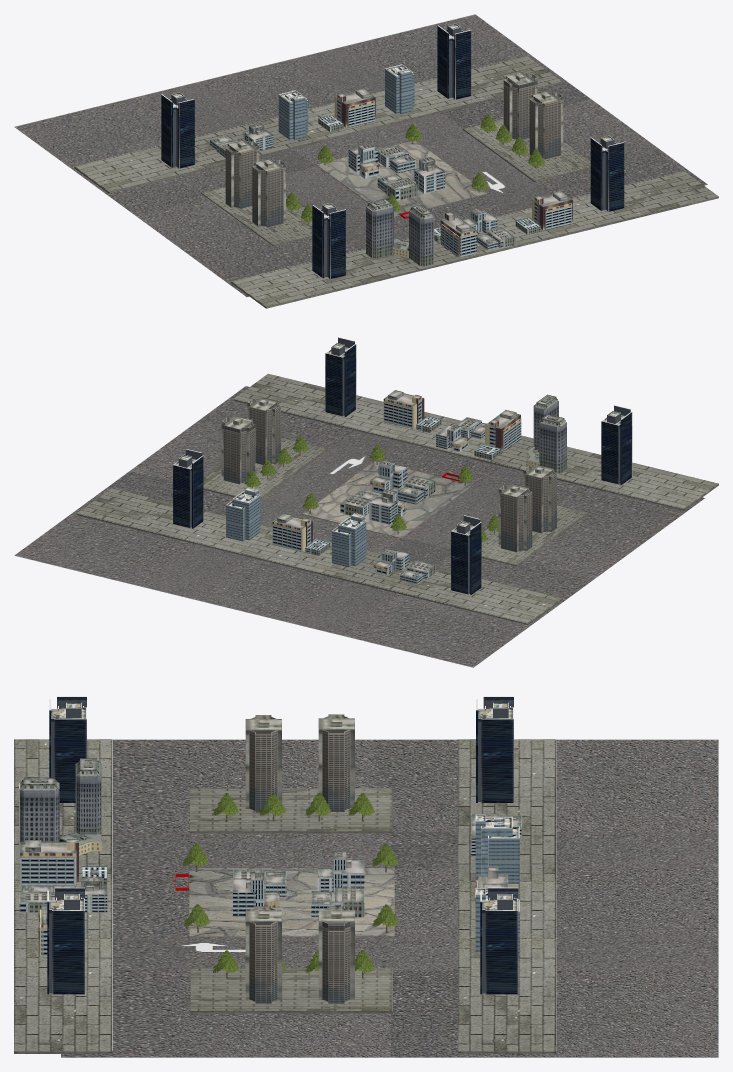
Rendered from city1.fbx.
3 renders of one model, top to bottom at view 1: azimuth 30°, elevation 25°; view 2: azimuth 150°, elevation 25°; view 3: azimuth 270°, elevation 25°, orthographic. The views are drawn at different scales.
Visible parts, largest first — view 1: pPlane37, pCube5, pCube6, lou1, pCube7, pCube3, lou11, lou8, lou12, lou9, lou4, lou3 (+10 smaller); view 2: pPlane37, pCube6, pCube5, lou1, pCube7, lou9, lou8, lou6, lou11, lou12, pCube3, lou5 (+10 smaller); view 3: pPlane37, pCube6, pCube5, lou1, pCube7, pCube4, pCube3, lou11, lou8, lou12, lou3, lou5 (+8 smaller).
Boxes of the visible parts, x1,y1,x2,y2 form: pPlane37: (14,14,707,296); pCube5: (231,171,718,308); pCube6: (74,56,561,193); lou1: (366,198,515,266); pCube7: (316,141,487,216); pCube3: (463,119,590,182); lou11: (437,23,471,99); lou8: (590,135,624,211); lou12: (161,92,194,168); lou9: (312,203,345,279); lou4: (252,158,285,227); lou3: (529,91,563,159); pPlane37: (14,386,704,667); pCube6: (77,488,562,625); pCube5: (233,373,718,510); lou1: (436,394,566,473); pCube7: (302,461,473,538); lou9: (601,405,632,484); lou8: (325,337,356,416); lou6: (498,484,532,552); lou11: (173,449,203,528); lou12: (451,515,481,594); pCube3: (203,438,327,499); lou5: (221,416,255,484); pPlane37: (61,739,718,1057); pCube6: (458,739,556,1053); pCube5: (14,739,112,1053); lou1: (19,758,107,912); pCube7: (189,868,394,936); pCube4: (190,788,392,833); pCube3: (190,968,392,1013); lou11: (480,887,518,994); lou8: (47,887,84,994); lou12: (476,696,513,802); lou3: (245,906,281,1003); lou5: (318,906,354,1003).
Size of the model in its own units: 28.02 by 3.96 by 26.25.
